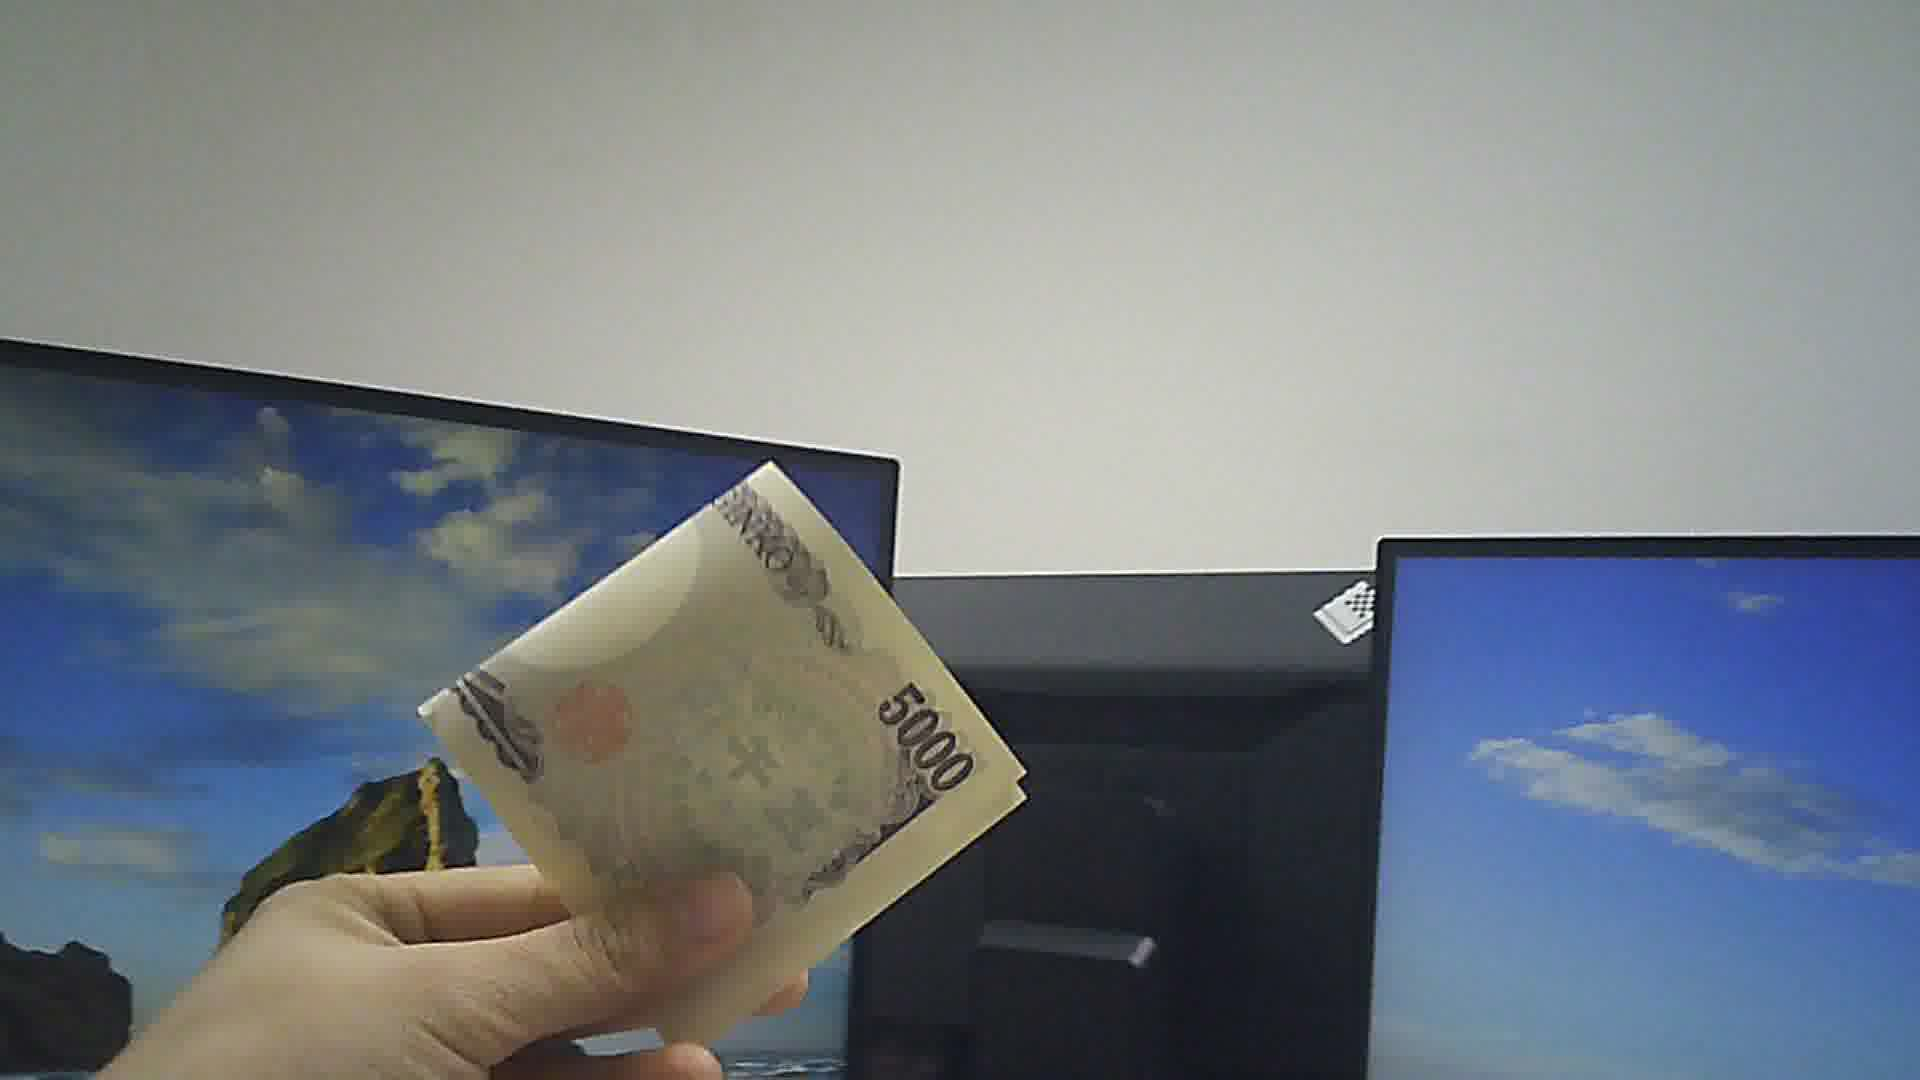5,000 Yen: (418, 436, 1044, 1027)
